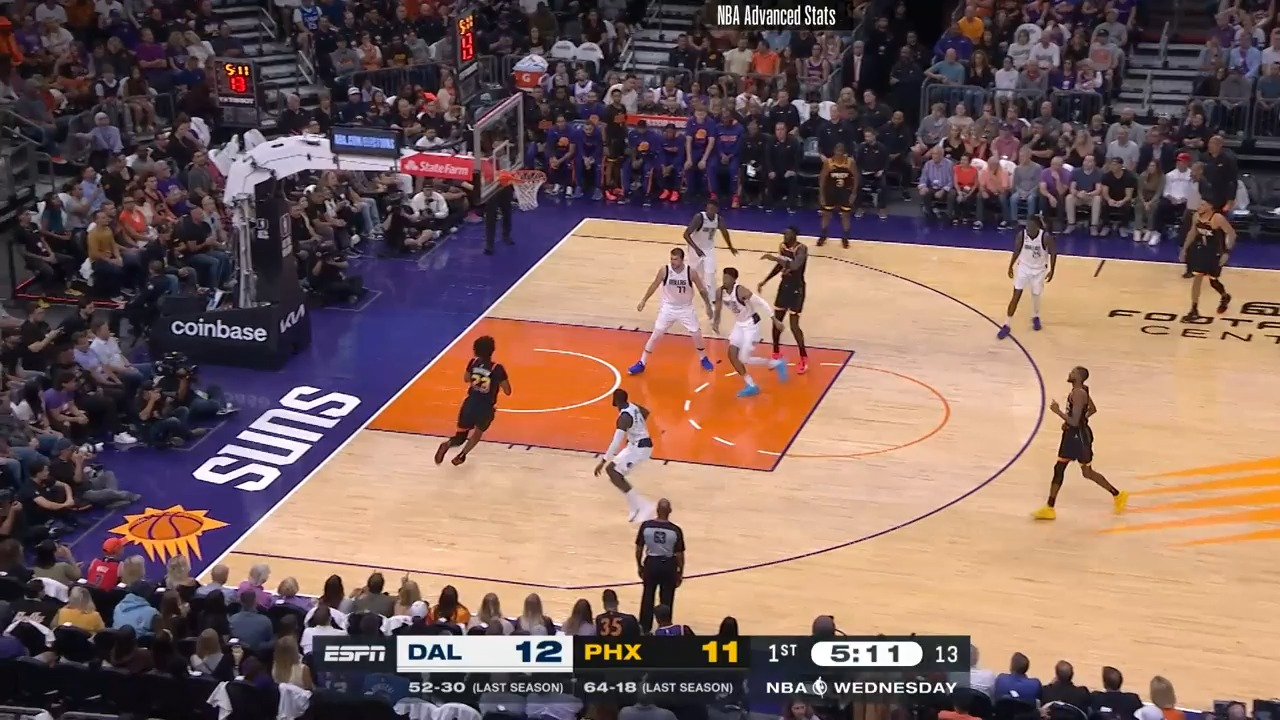net: (498, 163, 546, 229)
player: (1032, 361, 1132, 527), (629, 246, 721, 381), (428, 332, 512, 469), (707, 264, 783, 400), (588, 386, 659, 525), (993, 214, 1060, 345), (751, 229, 810, 374), (683, 197, 738, 329), (811, 141, 857, 253)
referee: (633, 495, 695, 629), (1181, 193, 1242, 320)
